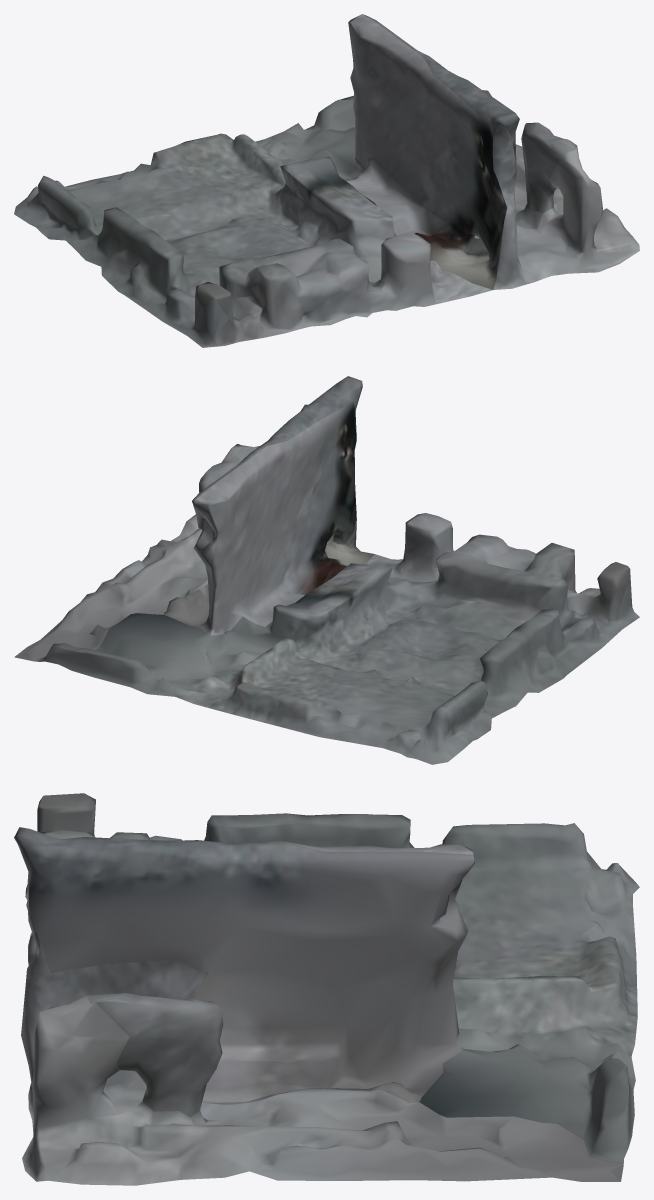
File: carte mere 1.fbx
3 renders of one model, top to bottom at view 1: azimuth 30°, elevation 25°; view 2: azimuth 150°, elevation 25°; view 3: azimuth 270°, elevation 25°, orthographic. The views are drawn at different scales.
Visible parts, largest first — view 1: 3DModel_LowPoly; view 2: 3DModel_LowPoly; view 3: 3DModel_LowPoly.
Part boxes in pixels (x1,y1,x2,y2): 3DModel_LowPoly: (14, 14, 639, 347); 3DModel_LowPoly: (14, 376, 639, 764); 3DModel_LowPoly: (14, 793, 639, 1185).
Bounding box in the file's own units: 68.17 × 26.16 × 56.34.
